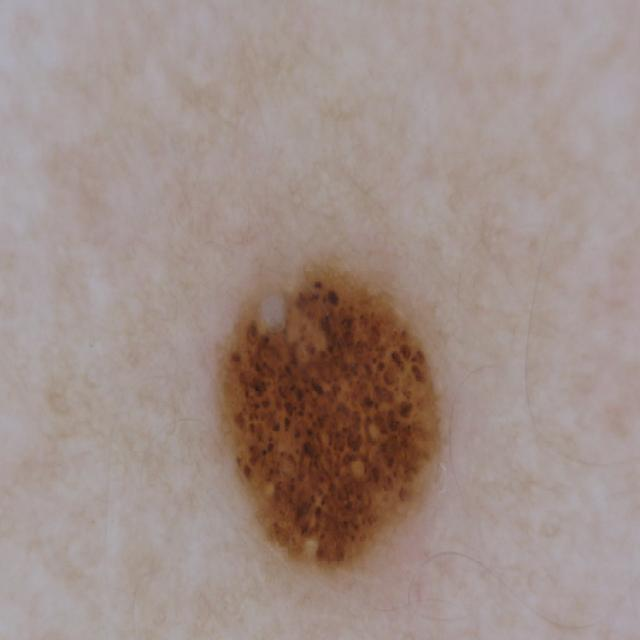Melanoma: (199, 230, 496, 613)
